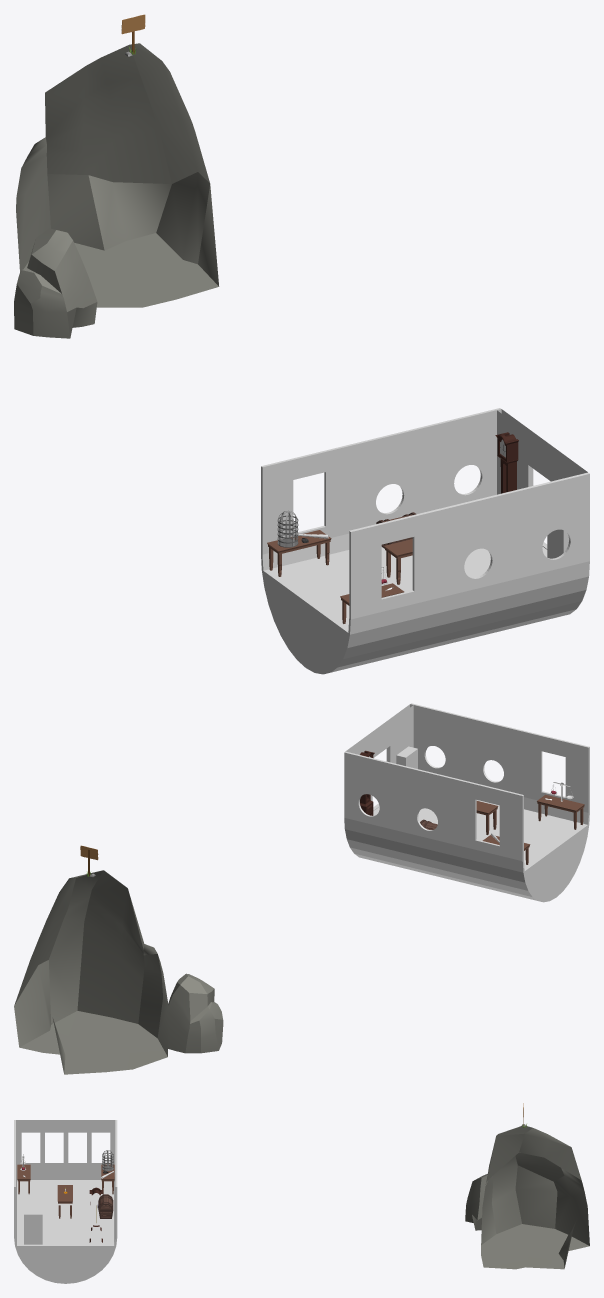
File: scn_room_exampleLayout_v1.glb
The picture shows the model from 3 angles, top to bottom: view 1: azimuth 30°, elevation 25°; view 2: azimuth 150°, elevation 25°; view 3: azimuth 270°, elevation 25°; orthographic projection. The views are drawn at different scales.
Parts seen in each view (by area): view 1: Hull Edit, Rock, Grandfather Clock, TableSimple.002; view 2: Hull Edit, Rock, TableSimple.001; view 3: Rock, Hull Edit, Rotating Puzzle, TableSimple, ChestClosed, TableSimple.001.
Boxes of the visible parts, x1,y1,x2,y2 form: Hull Edit: [261, 408, 589, 674]; Rock: [14, 43, 219, 338]; Grandfather Clock: [495, 432, 518, 493]; TableSimple.002: [267, 530, 331, 576]; Hull Edit: [344, 703, 589, 902]; Rock: [14, 870, 223, 1074]; TableSimple.001: [537, 794, 584, 829]; Rock: [465, 1126, 589, 1269]; Hull Edit: [14, 1120, 117, 1283]; Rotating Puzzle: [24, 1211, 42, 1244]; TableSimple: [57, 1185, 72, 1218]; ChestClosed: [97, 1194, 113, 1218]; TableSimple.001: [17, 1164, 30, 1194].
Size of the model in its own units: 20.97 by 20.55 by 61.53.
22 materials, 1 textured.
